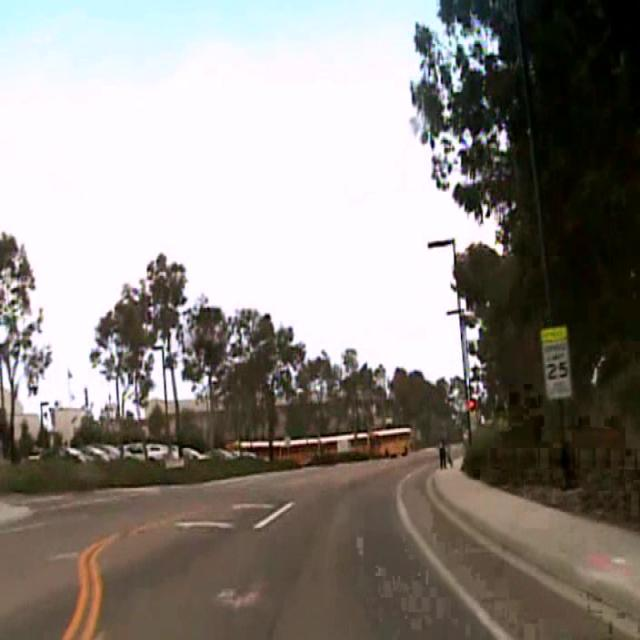speedLimit25: (539, 325, 573, 399)
